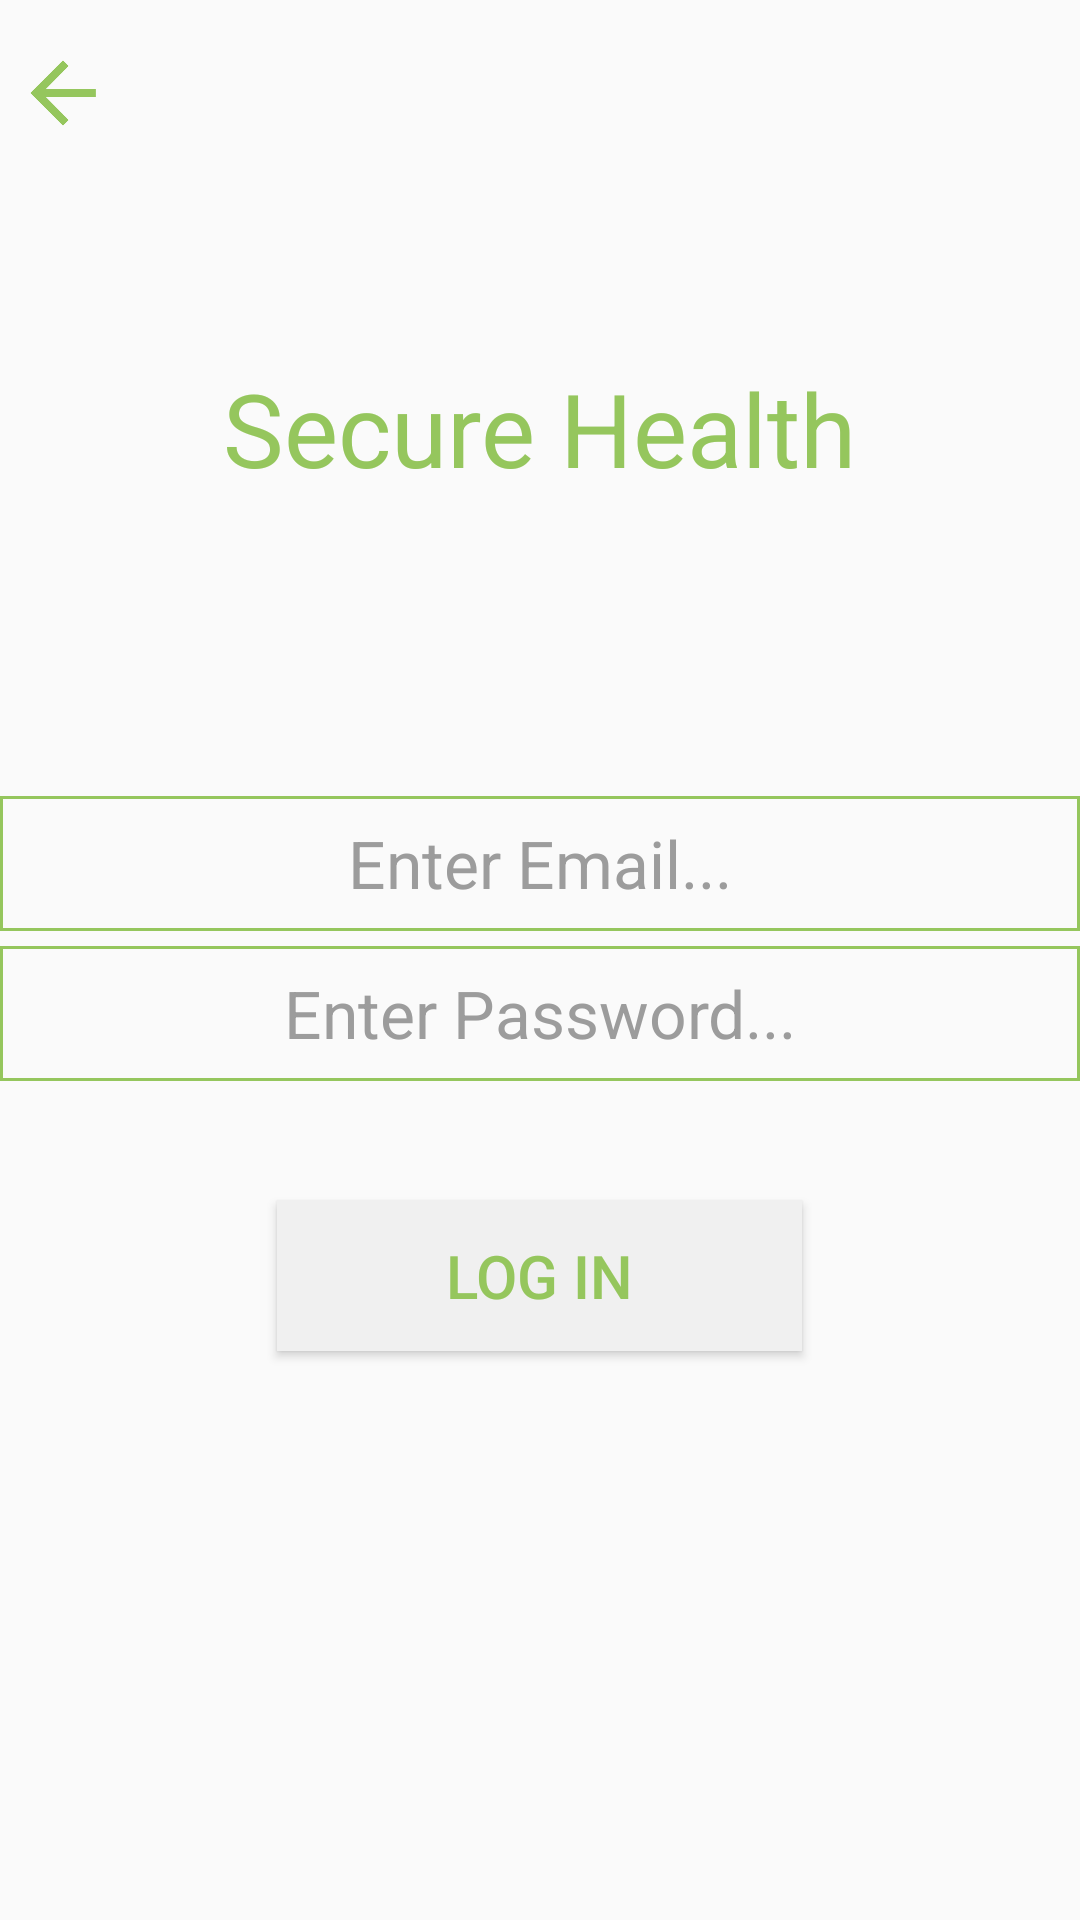

Named icons in this screenshot (1080 x 1920) and their bounding boxes, (x1, y1, x2, y2):
back: (31, 61, 96, 125)
